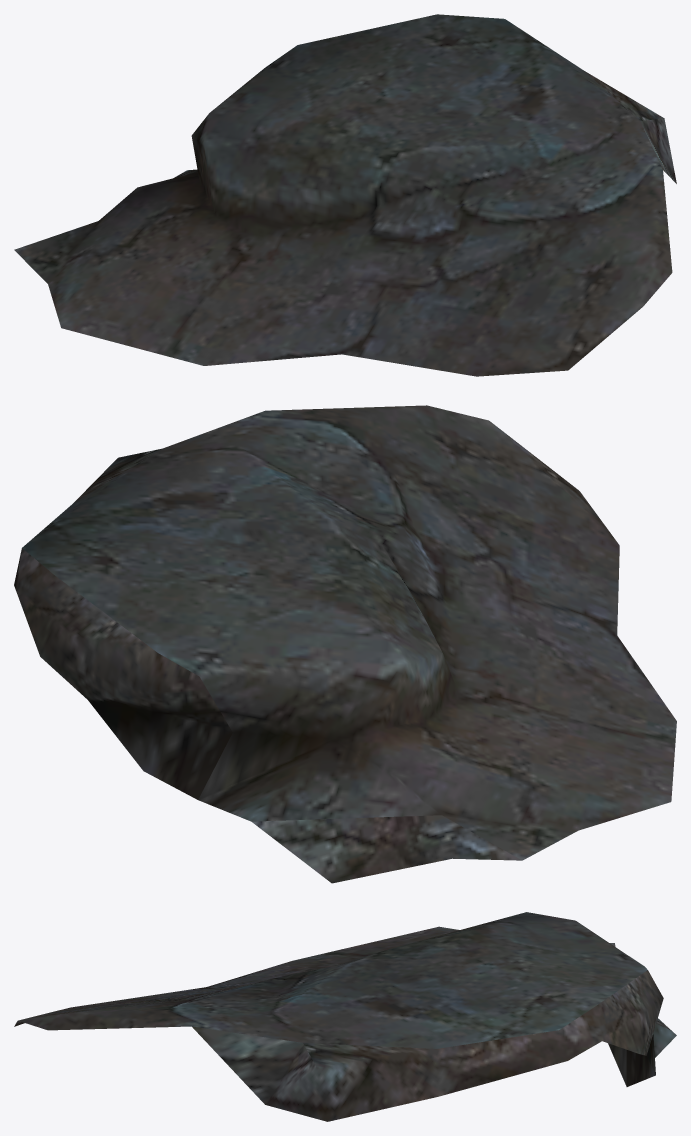
Rendered from S_Rock_Yellow036_H21.FBX.
3 views of the same model, one above another, from view 1: azimuth 30°, elevation 25°; view 2: azimuth 150°, elevation 25°; view 3: azimuth 270°, elevation 25° (orthographic). The views are drawn at different scales.
Visible parts, largest first — view 1: S_Rock_Yellow036_H21; view 2: S_Rock_Yellow036_H21; view 3: S_Rock_Yellow036_H21.
Part boxes in pixels (bbox=[...]): S_Rock_Yellow036_H21: bbox=[14, 14, 676, 376]; S_Rock_Yellow036_H21: bbox=[14, 405, 676, 883]; S_Rock_Yellow036_H21: bbox=[14, 912, 676, 1121].
Bounding box in the file's own units: 814 × 847 × 244.
Materials: 1 (1 with a texture image).
